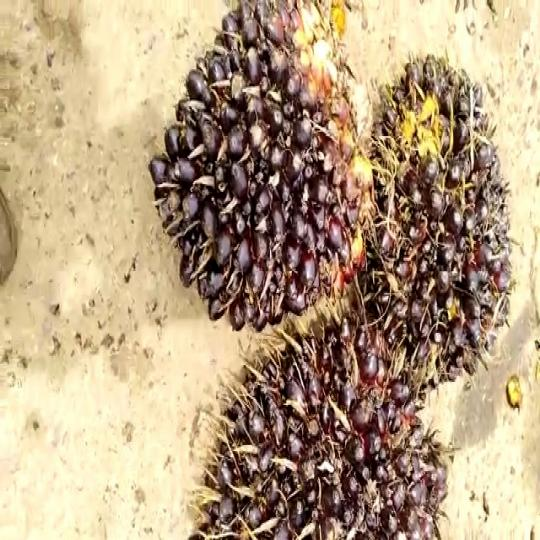mentah: (150, 0, 362, 333), (181, 312, 466, 540), (370, 45, 510, 389)
